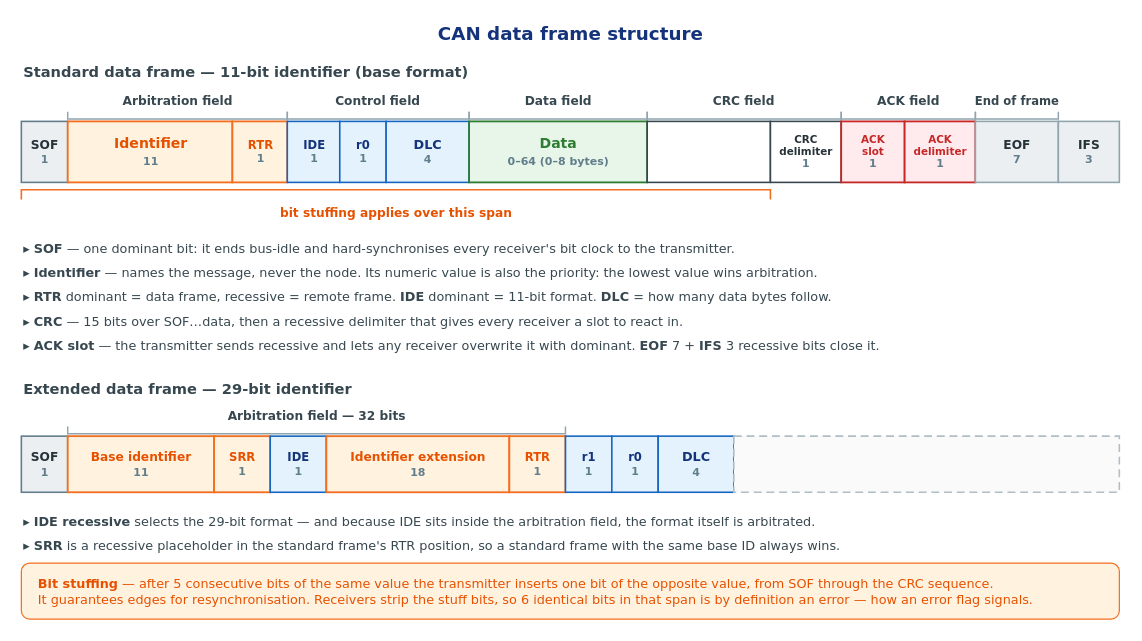
Some shapes in this 1142 by 641 pixel diagram are drawn without their labels. Each missing label, with the centre of its shape:
CRC sequence 15: [708,151]
Data · CRC · ACK · EOF · IFS identical to the standard frame: [926,464]
